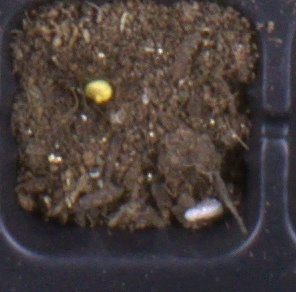chilli seed: (84, 79, 112, 102)
